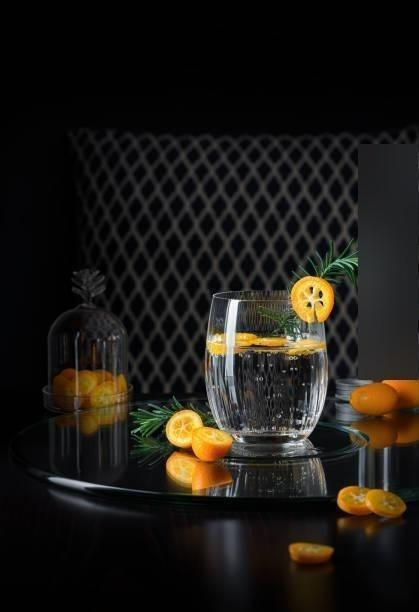glass-normal: (203, 289, 330, 452)
